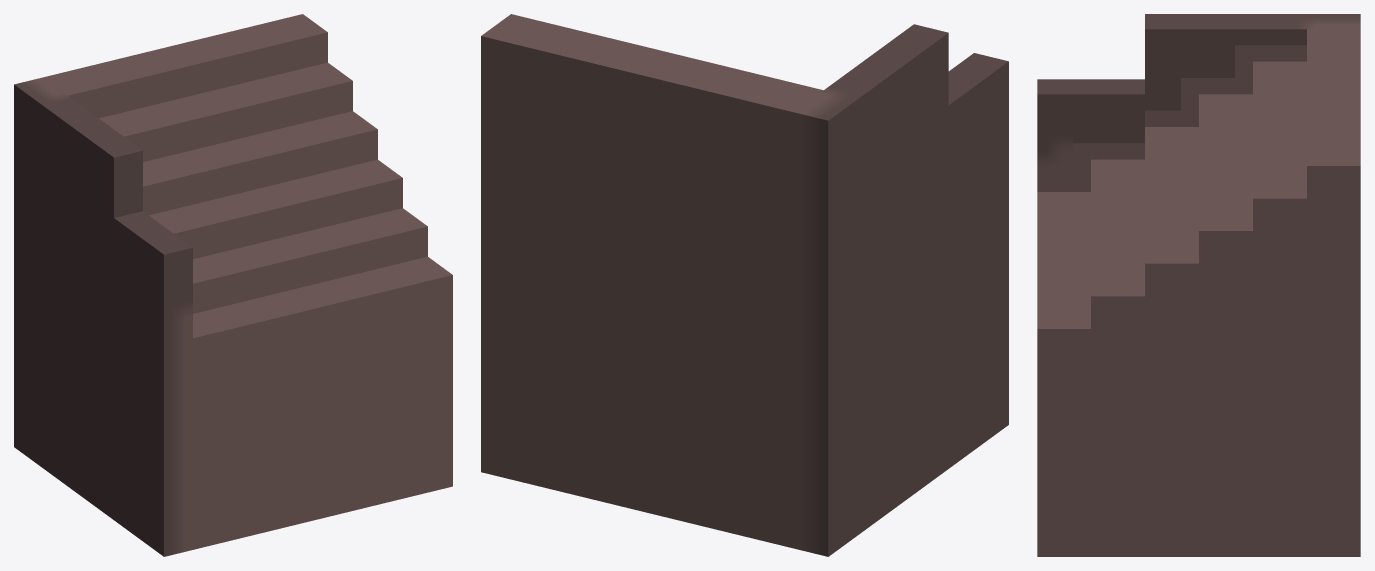
File: Stairs_Side.fbx
3 renders of one model, left to right at view 1: azimuth 30°, elevation 25°; view 2: azimuth 150°, elevation 25°; view 3: azimuth 270°, elevation 25°, orthographic. The views are drawn at different scales.
Parts seen in each view (by area): view 1: Stairs_Side; view 2: Stairs_Side; view 3: Stairs_Side.
Part boxes in pixels (x1,y1,x2,y2): Stairs_Side: [14, 14, 452, 556]; Stairs_Side: [481, 14, 1008, 556]; Stairs_Side: [1037, 14, 1360, 556].
Size of the model in its own units: 200 by 240 by 180.
1 material, 1 textured.
